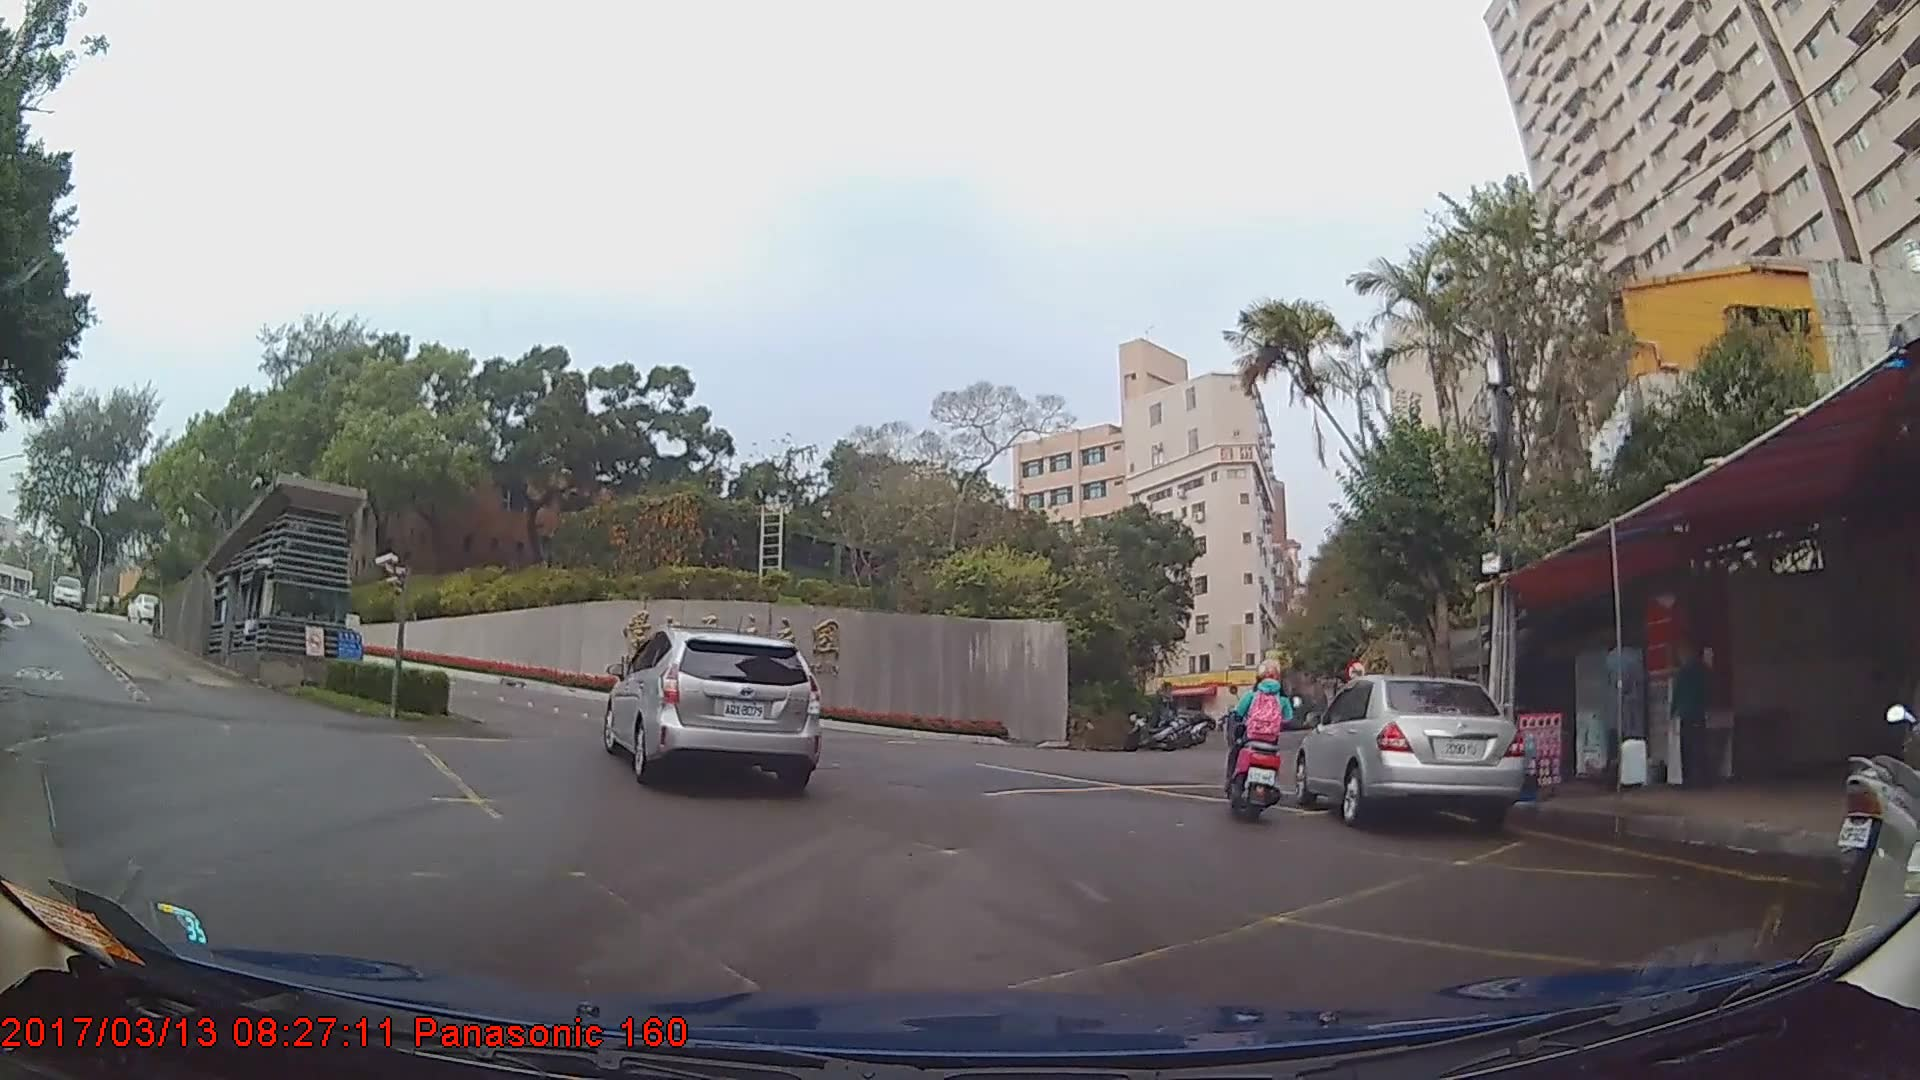pedestrian: (1666, 636, 1719, 786)
rider: (1223, 664, 1298, 833)
vehicle: (1295, 675, 1531, 828), (601, 629, 818, 793), (50, 572, 84, 609), (125, 593, 161, 623)
